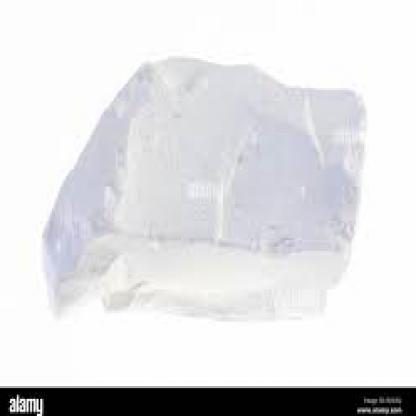Sedimentary_Chalk: (37, 43, 369, 328)
